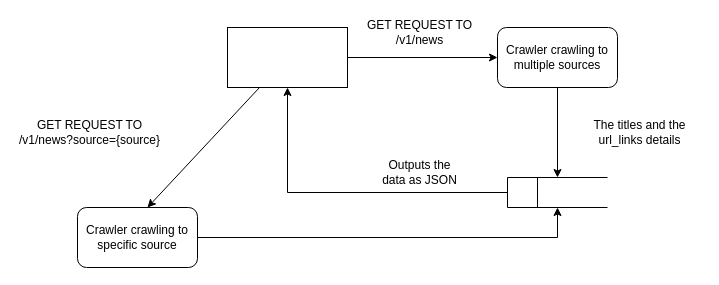
This 719x285 diagram has some shape labels left out. Each missing label, with the centre of its shape:
A Results array: pixel 557 192
User/Web application: pixel 287 57
